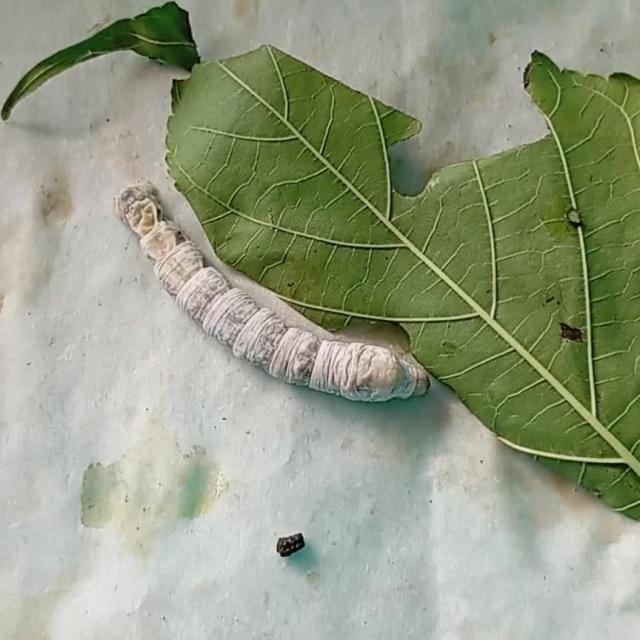Grasserie: (92, 153, 456, 433)
